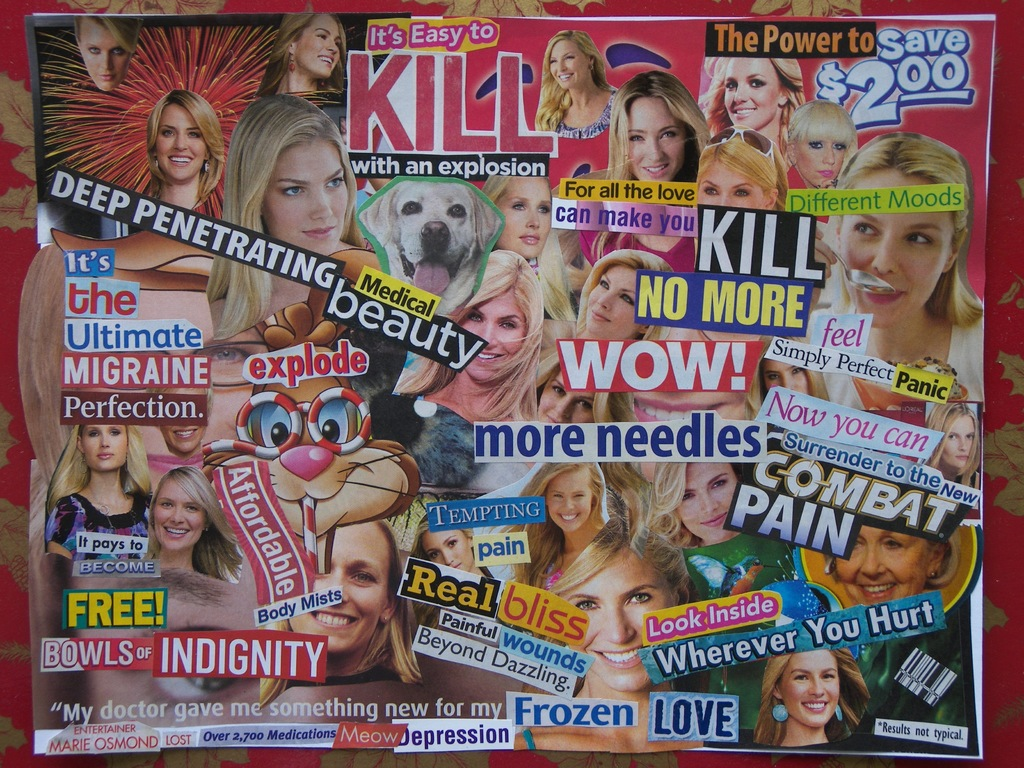Person: (16, 8, 985, 752)
